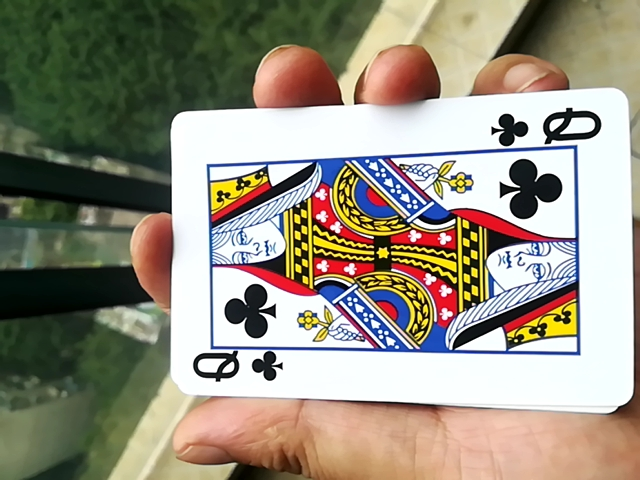mh q: (153, 100, 633, 418)
